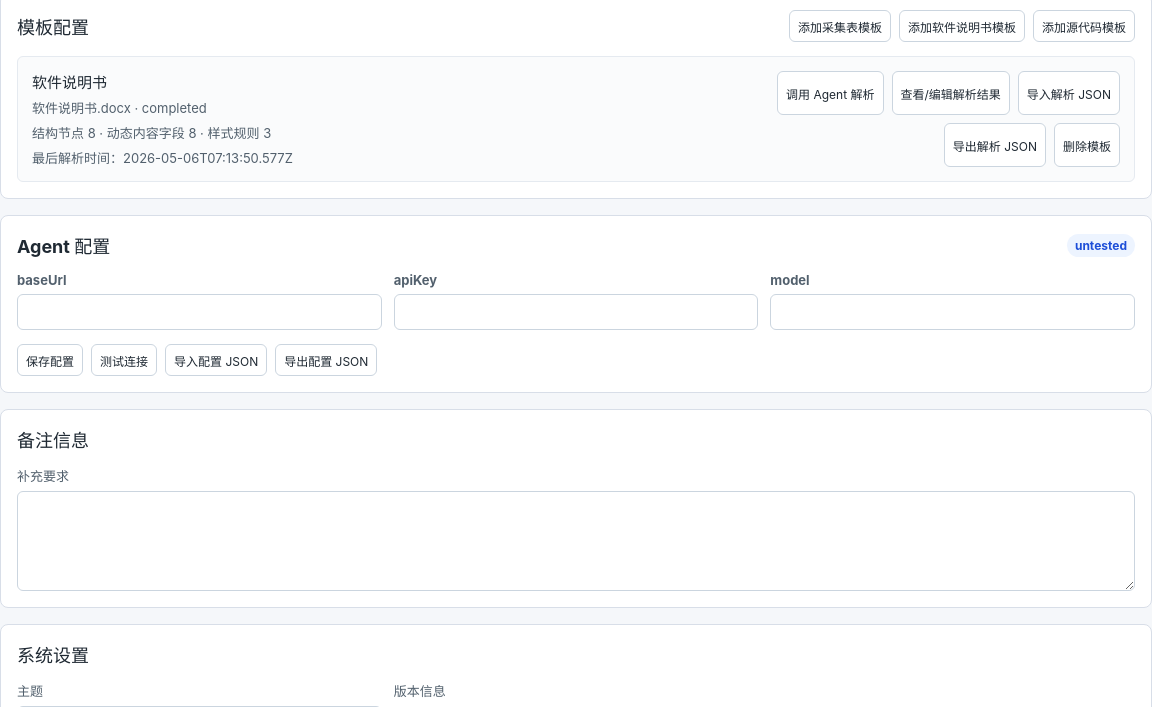
SettingsView › shows agent unavailable when runtime test fails
The width and height of the screenshot is (1152, 707).
(page scrolled)
Click the button with test id "test-agent" at [124, 360], box [91,344,157,376]
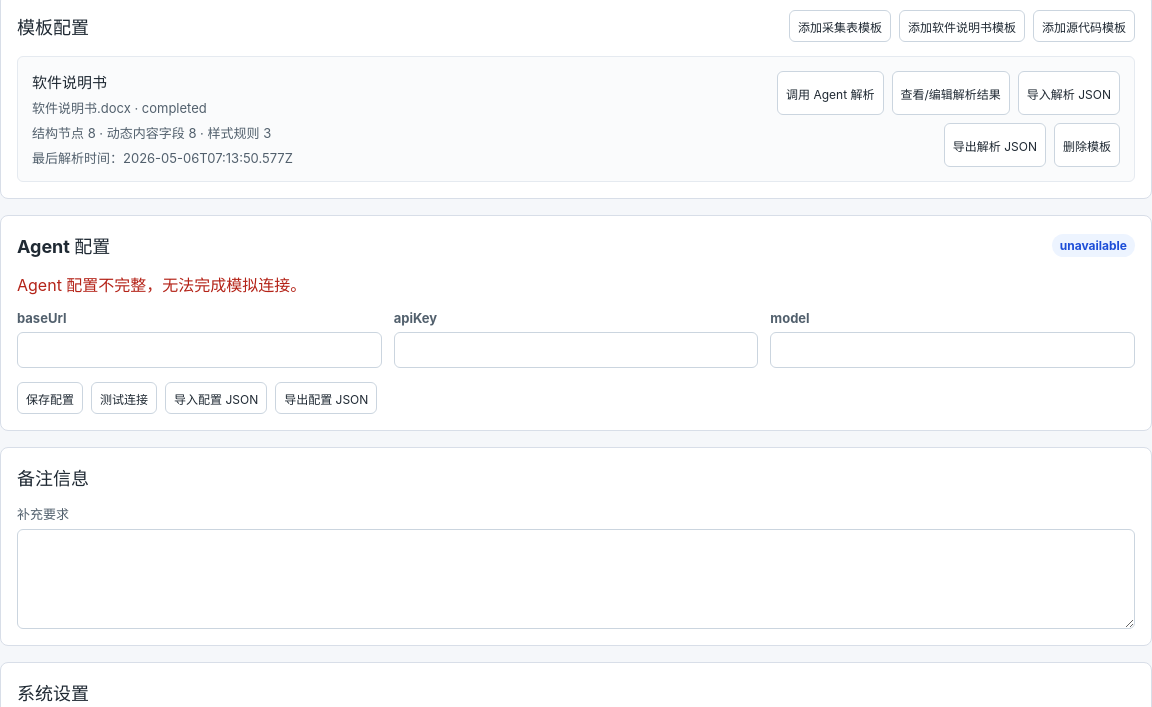
Result: the text "unavailable" is shown at [1052,234,1135,256]
